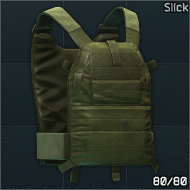LBT 6094A Slick Plate Carrier Olive: (0, 0, 190, 190)
